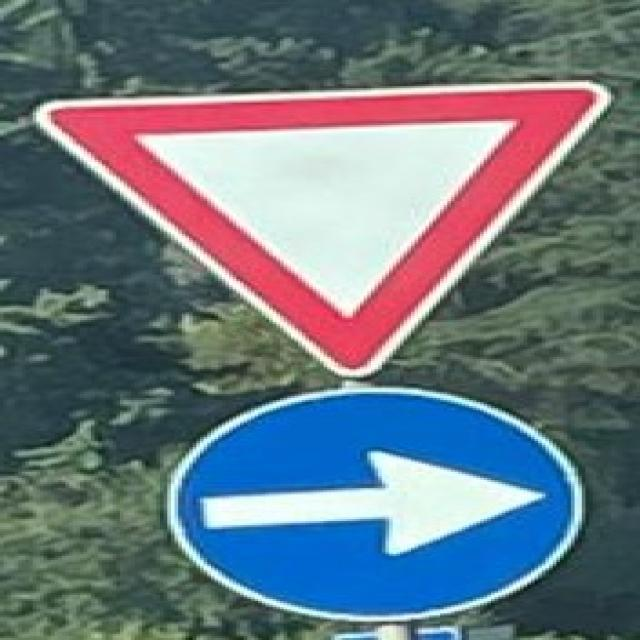prio_give_way: (26, 70, 619, 388)
